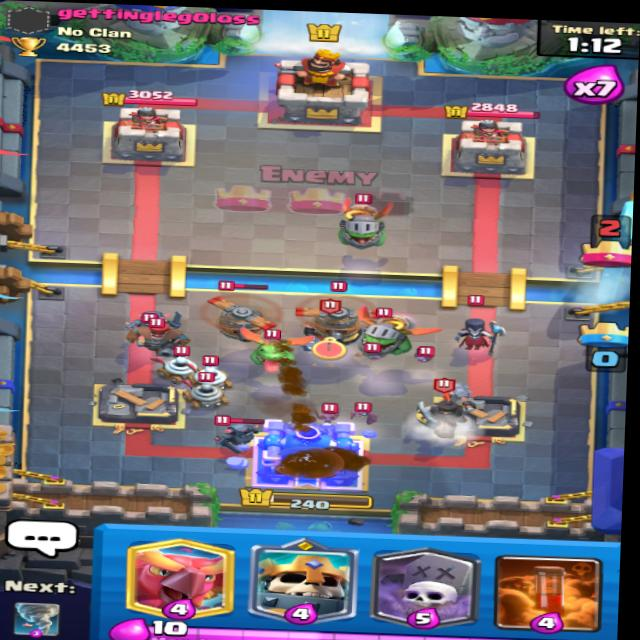Babydragon: (238, 324, 314, 363)
Bat: (342, 391, 379, 420), (310, 398, 344, 423), (358, 342, 392, 363), (410, 345, 447, 364)
Darkprince: (411, 378, 486, 439)
Flyingmachine: (189, 283, 288, 346), (301, 291, 371, 347)
Infernodragon: (326, 197, 406, 257), (359, 303, 419, 362)
Minipekka: (208, 414, 266, 448), (123, 313, 181, 338)
Nightwitch: (449, 301, 506, 350)
Zappies: (184, 372, 226, 405), (189, 358, 229, 392), (153, 349, 198, 378)
hunter: (132, 317, 189, 354)
